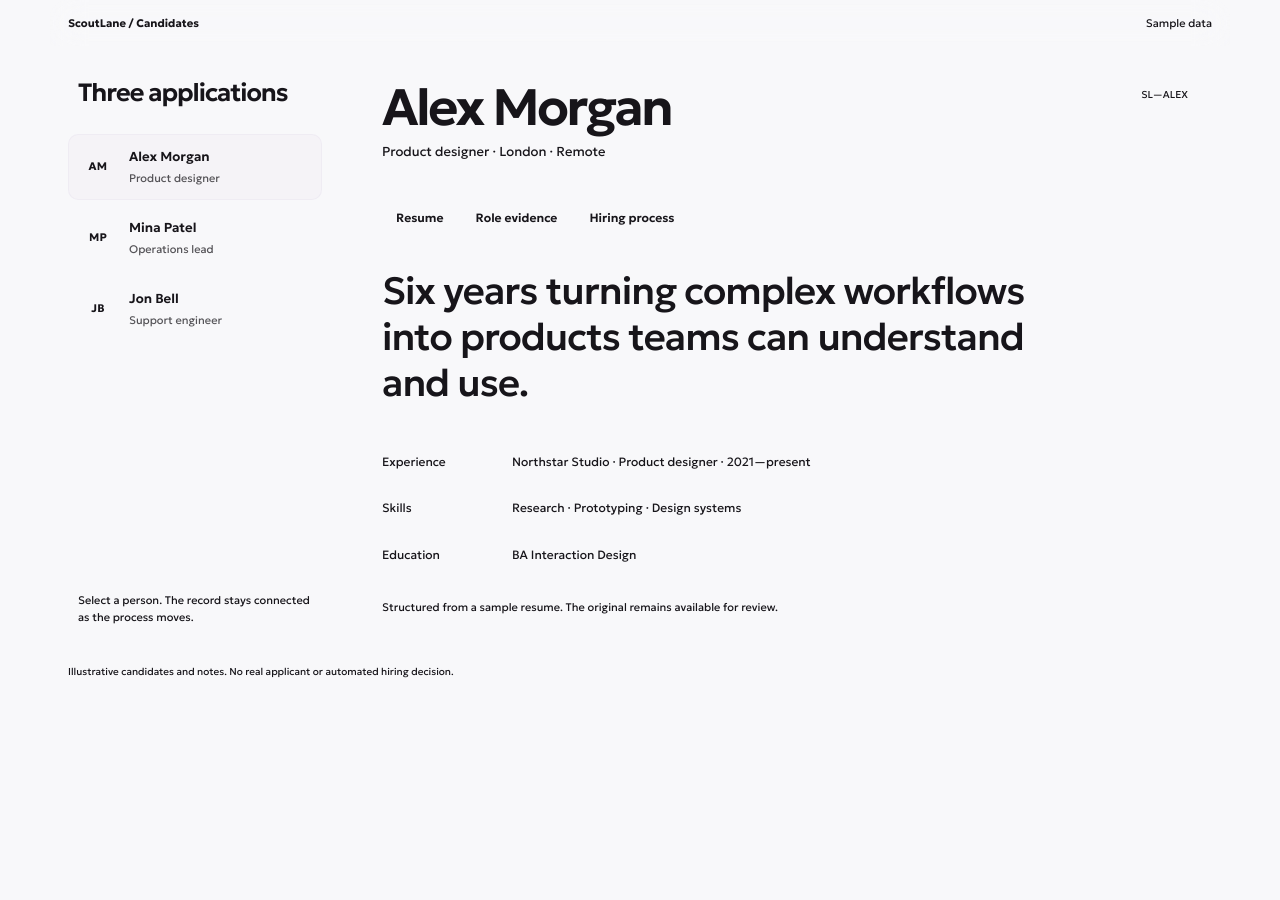
Test: LandingCandidateDemo › lets a visitor inspect a different sample candidate
Expected: the heading "Alex Morgan" is shown, [382,82,671,133]
Step 1. Click the button "MP Mina Patel Operations lead" → (195, 238), box [68,204,322,270]
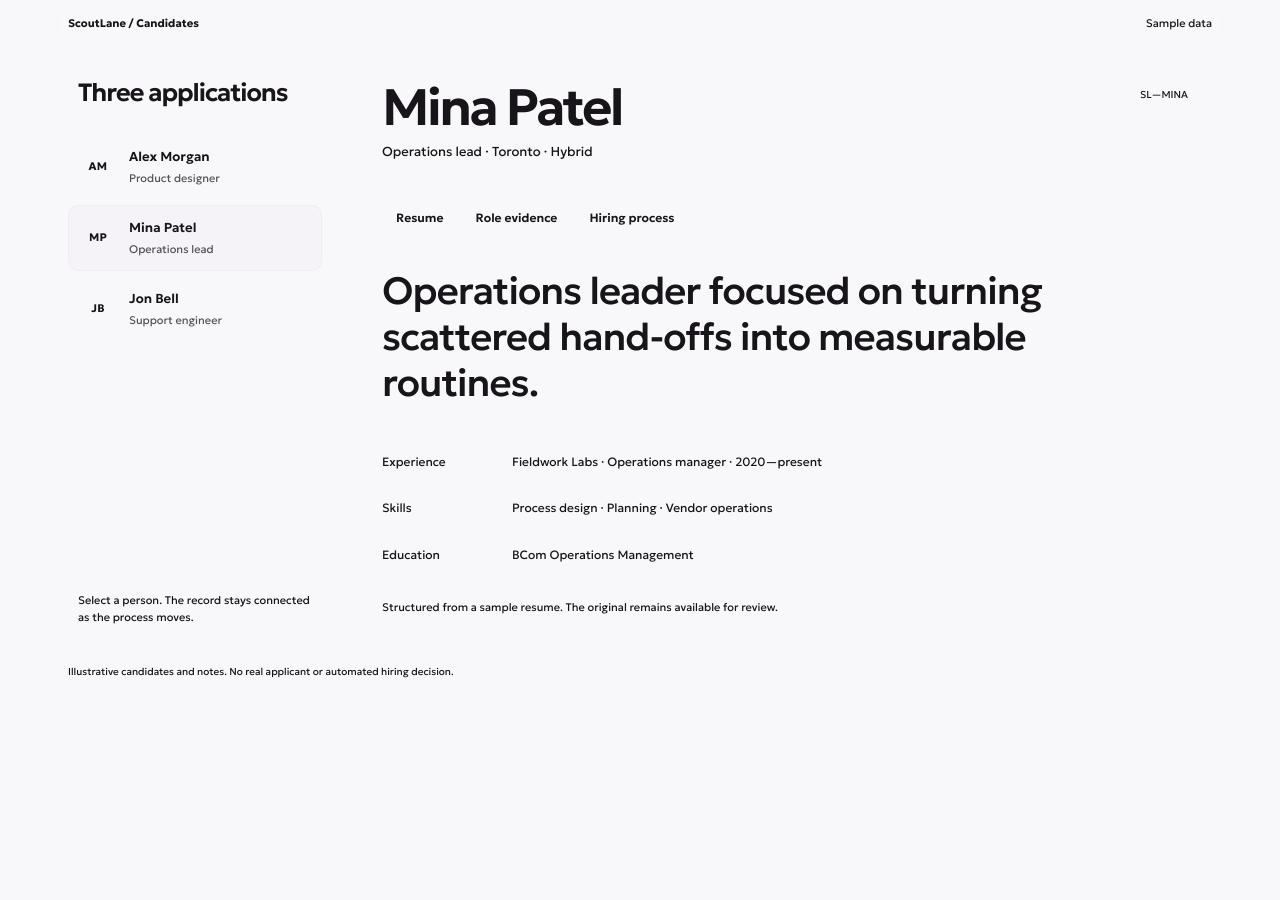
Expected: the text "Operations lead" is shown, [129,242,214,256]
Expected: the heading "Mina Patel" is shown, [382,82,622,133]
